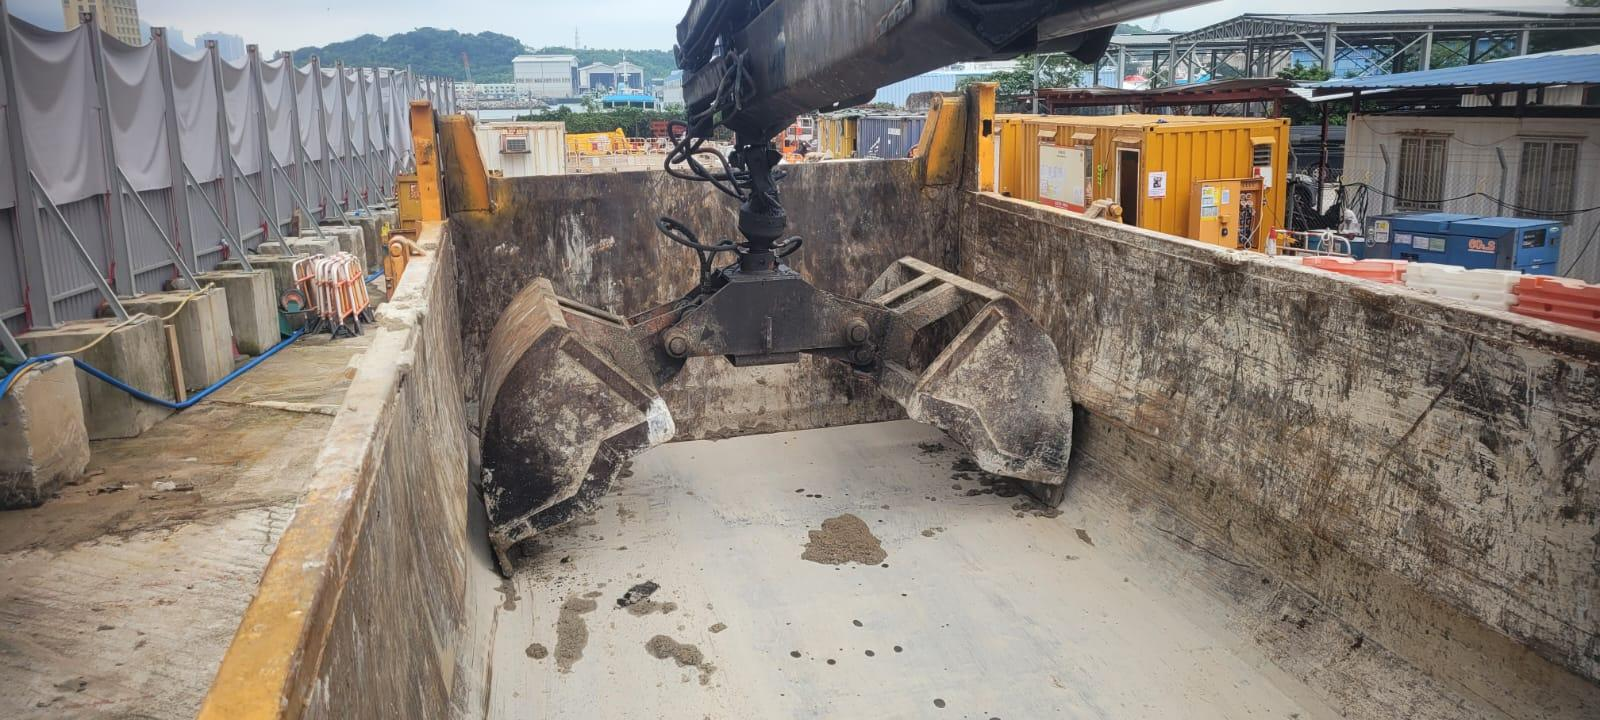nothing: (498, 424, 1309, 719)
